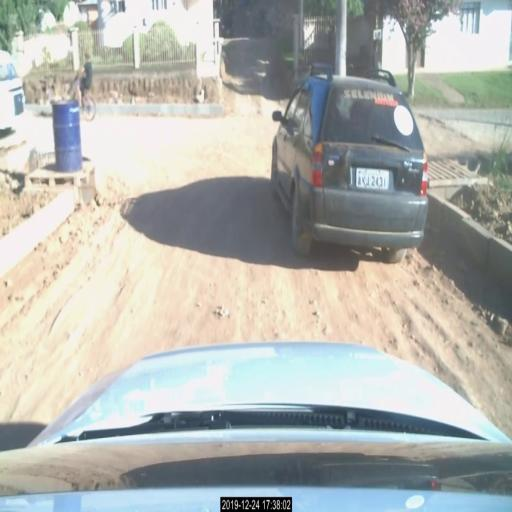Pothole: (141, 177, 253, 305)
